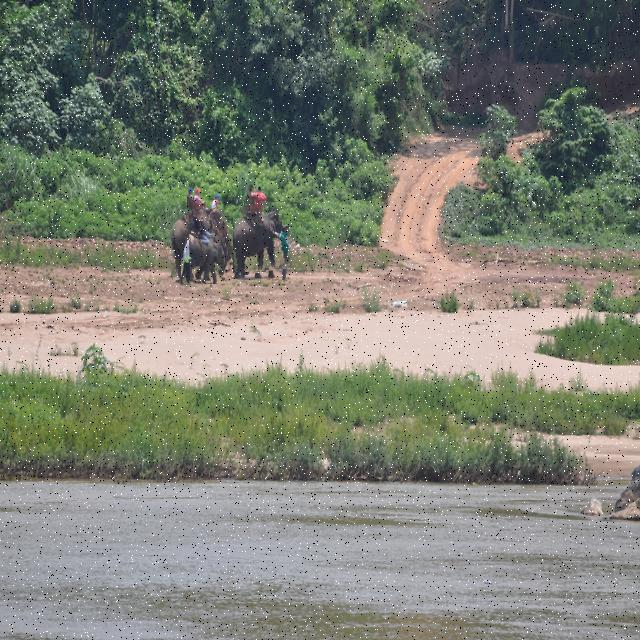elephant: (161, 209, 233, 281), (230, 202, 297, 273), (182, 232, 226, 284)
